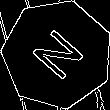N_SE: (25, 23, 90, 86)
